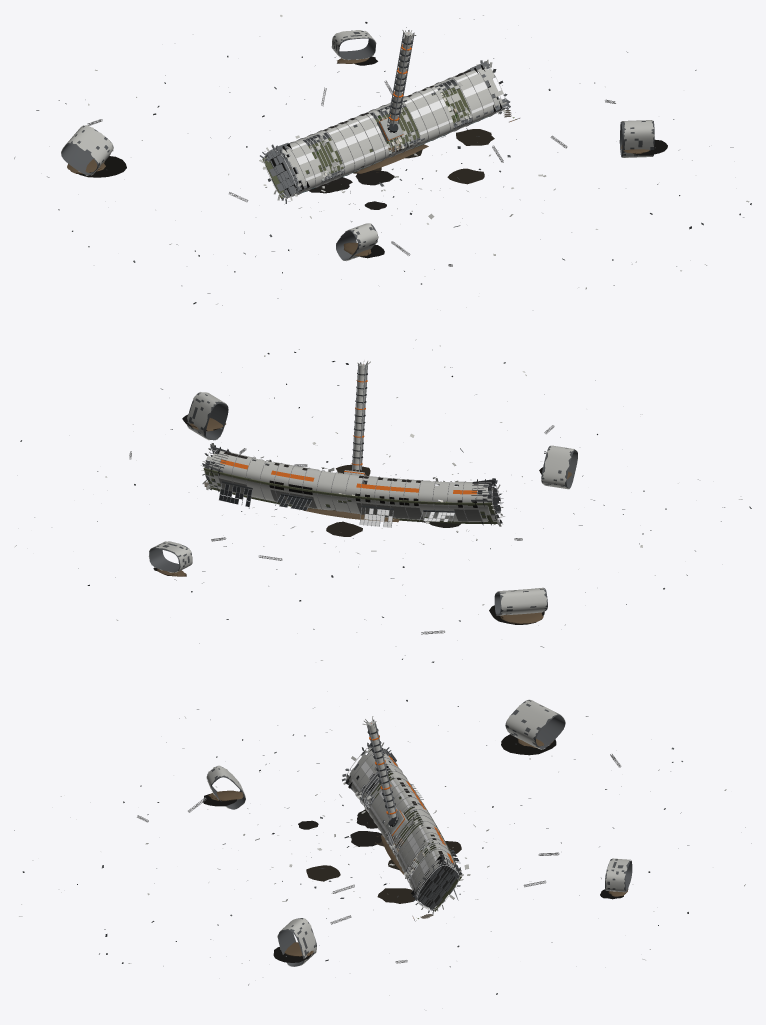
Rendered from ring-fall.glb.
The picture shows the model from 3 angles, top to bottom: view 1: azimuth 30°, elevation 25°; view 2: azimuth 150°, elevation 25°; view 3: azimuth 270°, elevation 25°; orthographic projection.
Parts seen in each view (by area): view 1: C0_0_lod0, C-6_2_lod0, C0_-1_lod0, C-3_-1_lod0, C4_-3_lod0, C-3_-4_lod0, C2_0_lod0, C1_4_lod0, C-2_-1_lod0, C1_0_lod0; view 2: C0_0_lod0, C-6_2_lod0, C4_-3_lod0, C-3_-4_lod0, C0_-1_lod0, C-3_-1_lod0, C2_0_lod0, C1_4_lod0, C-1_0_lod0; view 3: C0_0_lod0, C-6_2_lod0, C2_0_lod0, C0_-1_lod0, C4_-3_lod0, C1_4_lod0, C-3_-4_lod0, C-3_-1_lod0.
Part boxes in pixels (bbox=[...]): C0_0_lod0: bbox=[78, 56, 667, 258]; C-6_2_lod0: bbox=[61, 125, 113, 175]; C0_-1_lod0: bbox=[280, 30, 502, 197]; C-3_-1_lod0: bbox=[263, 138, 327, 198]; C4_-3_lod0: bbox=[619, 120, 654, 157]; C-3_-4_lod0: bbox=[336, 223, 378, 261]; C2_0_lod0: bbox=[440, 60, 509, 129]; C1_4_lod0: bbox=[315, 30, 376, 72]; C-2_-1_lod0: bbox=[304, 126, 355, 192]; C1_0_lod0: bbox=[404, 82, 464, 140]; C0_0_lod0: bbox=[153, 414, 544, 624]; C-6_2_lod0: bbox=[494, 587, 547, 623]; C4_-3_lod0: bbox=[187, 392, 228, 440]; C-3_-4_lod0: bbox=[522, 445, 577, 489]; C0_-1_lod0: bbox=[216, 360, 500, 520]; C-3_-1_lod0: bbox=[423, 478, 501, 540]; C2_0_lod0: bbox=[203, 446, 258, 508]; C1_4_lod0: bbox=[148, 541, 205, 583]; C-1_0_lod0: bbox=[205, 448, 494, 532]; C0_0_lod0: bbox=[203, 734, 623, 962]; C-6_2_lod0: bbox=[505, 699, 565, 749]; C2_0_lod0: bbox=[409, 848, 462, 911]; C0_-1_lod0: bbox=[346, 716, 433, 903]; C4_-3_lod0: bbox=[277, 918, 316, 966]; C1_4_lod0: bbox=[601, 858, 632, 896]; C-3_-4_lod0: bbox=[206, 765, 248, 809]; C-3_-1_lod0: bbox=[345, 742, 418, 807].
Size of what is drawn, in the model's own units: 2541 by 551 by 2483.
